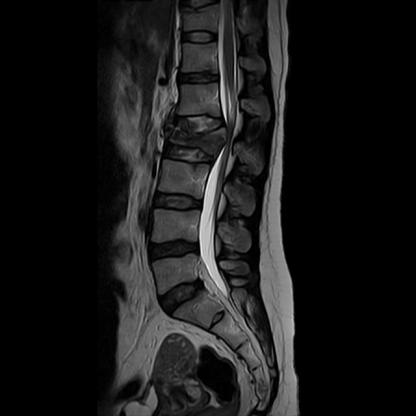Annular Tearrotation: (157, 281, 211, 310)
Fracturerotation: (160, 106, 235, 169)
